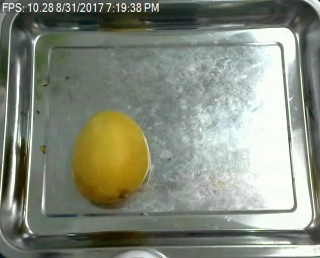Mango: (74, 113, 149, 200)
